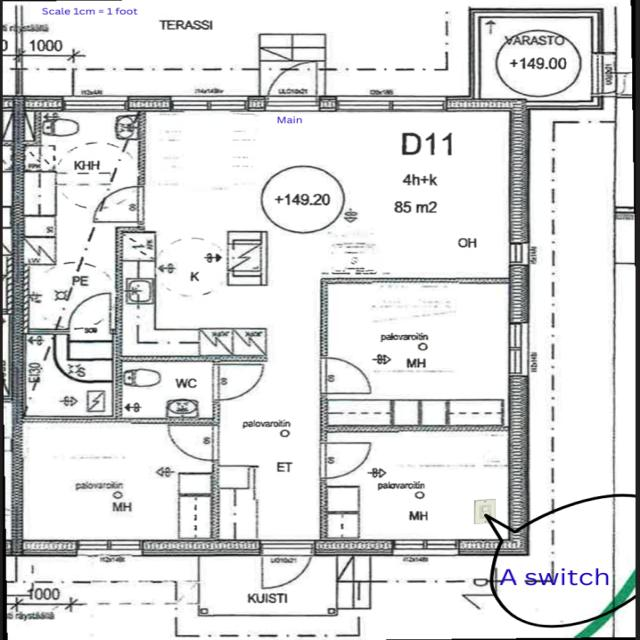main: (241, 41, 342, 125)
switch: (468, 493, 498, 532)
wall: (502, 371, 541, 561), (502, 93, 536, 253), (135, 532, 266, 560), (12, 529, 89, 561), (443, 89, 533, 116), (307, 535, 404, 560), (504, 260, 533, 329), (458, 537, 536, 558), (122, 92, 185, 117)
